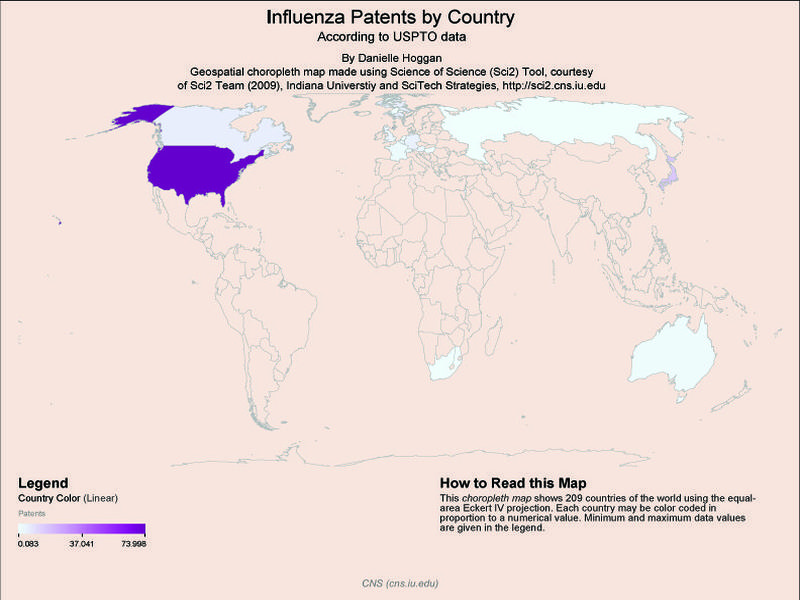legend: (12, 474, 150, 554)
